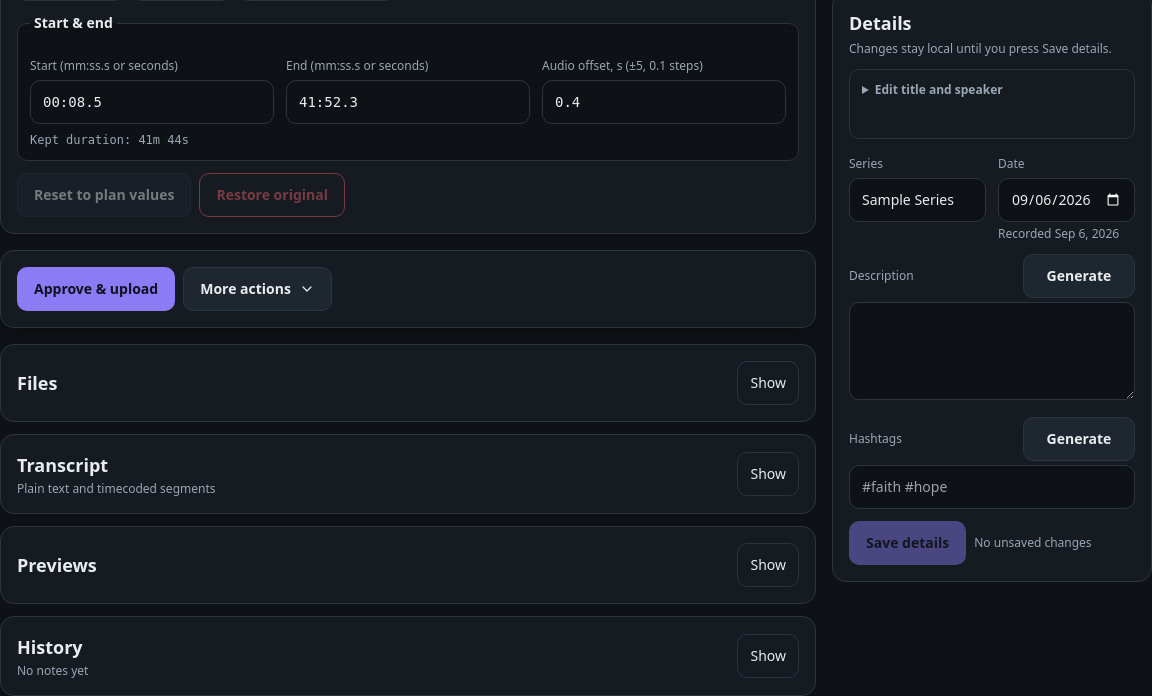
it: SermonReview artifacts › groups files, transcript, previews, and history into collapsible panels
(page scrolled)
Expected: the element with test id "transcript-panel" is shown, [0,434,816,514]
Expected: the element with test id "history-panel" is shown, [0,616,816,695]
Step 1. Click the button with aria-label "Expand Files" → (768, 382), box [738,360,799,404]
(page scrolled)
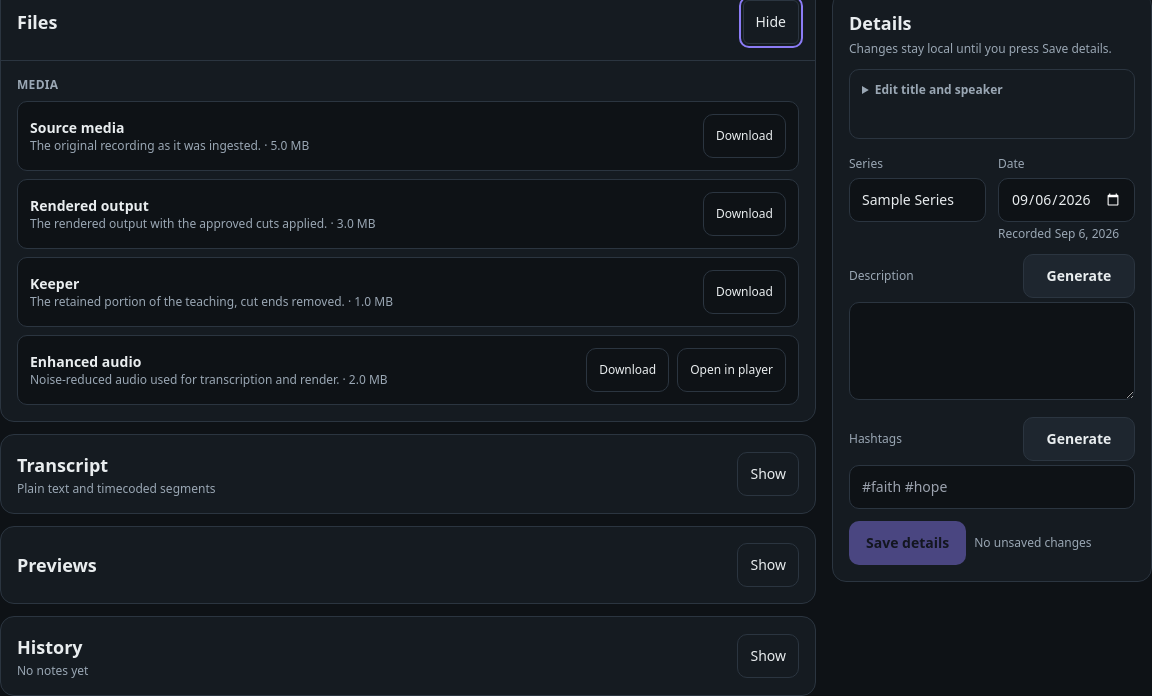
Step 2. Click the button with aria-label "Expand Previews" → (768, 564), box [738,542,799,586]
(page scrolled)
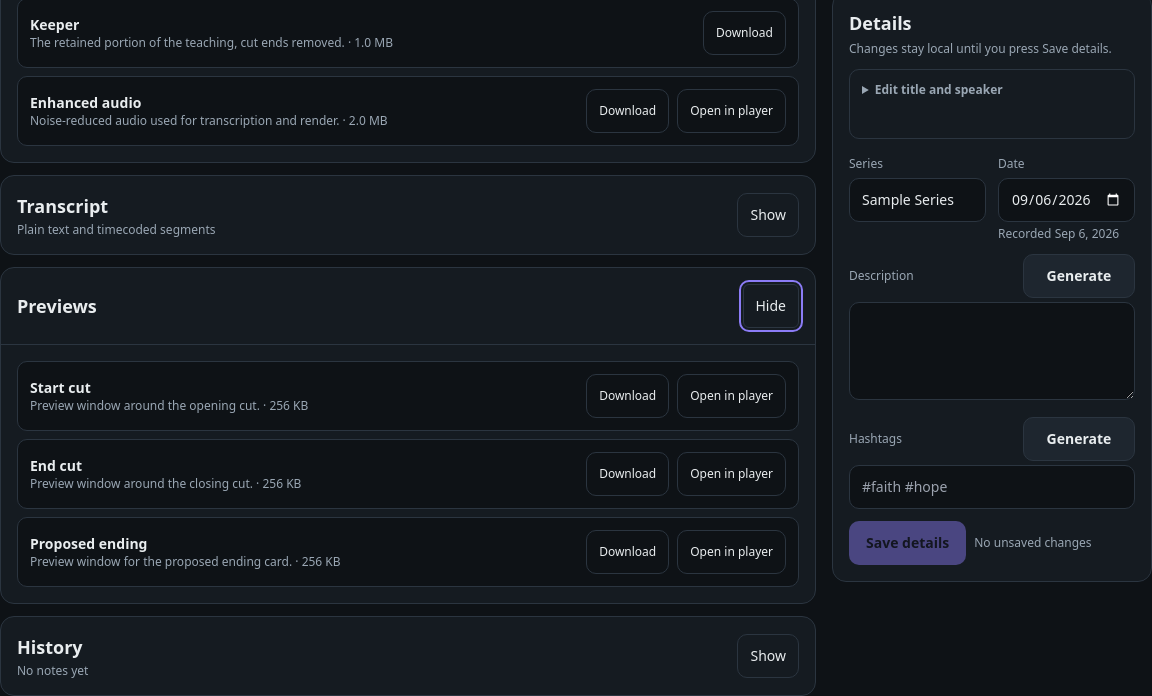
Expected: the number of list items with test id "artifact-preview-row" is 3, [17,360,799,430]; [17,438,799,508]; [17,516,799,586]
